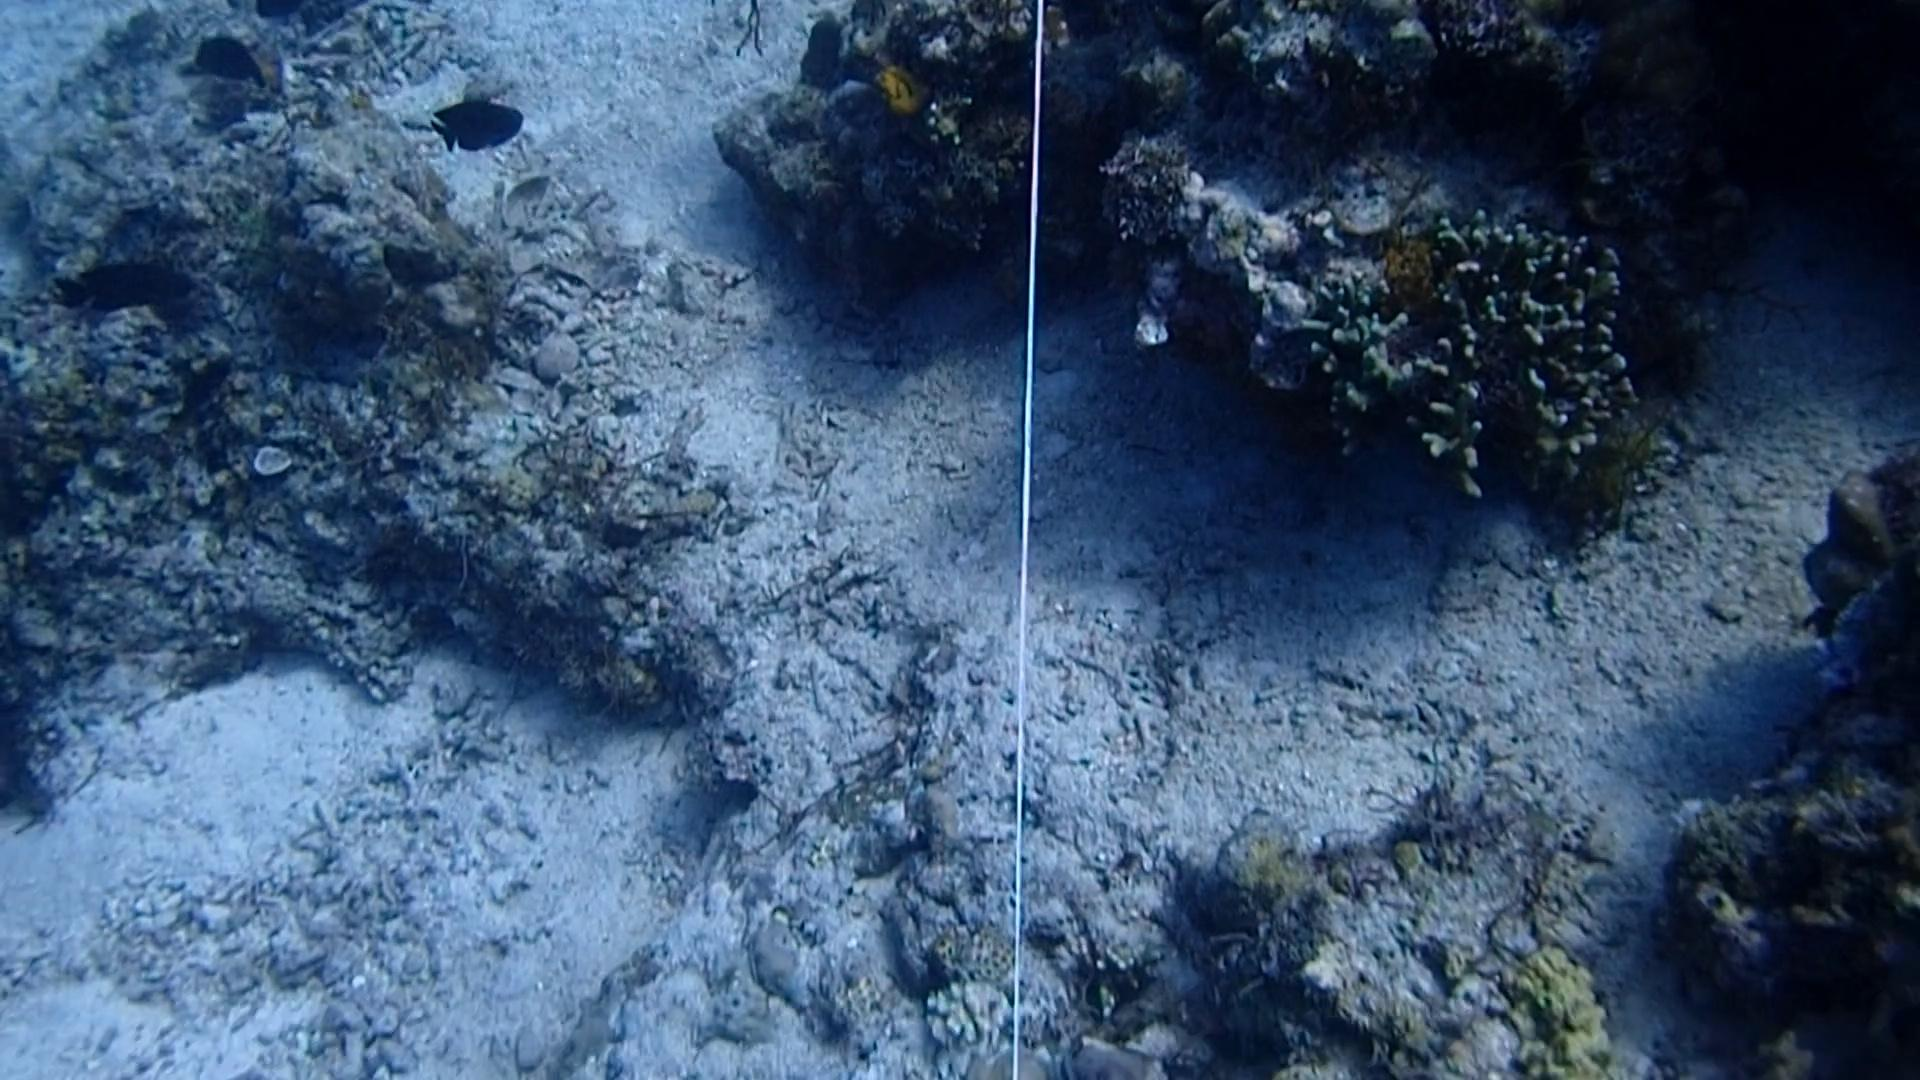Dark Fish: (53, 244, 195, 326), (426, 87, 541, 165), (158, 344, 239, 434), (179, 29, 281, 94)
